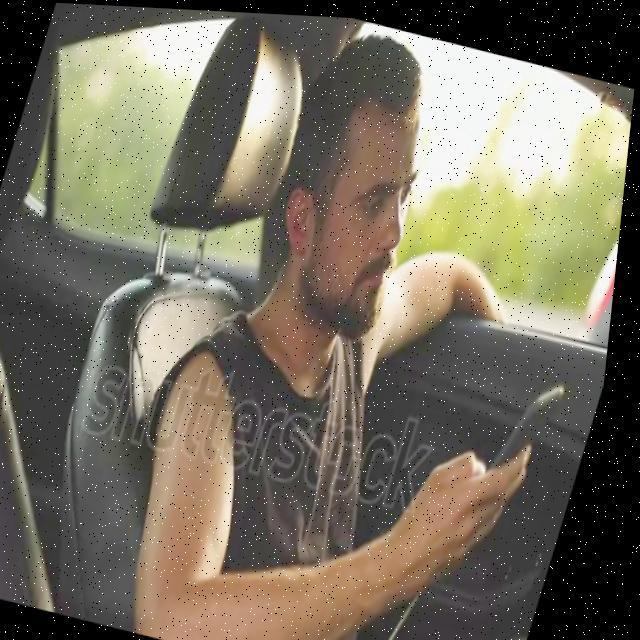PhoneCall: (493, 368, 573, 484)
